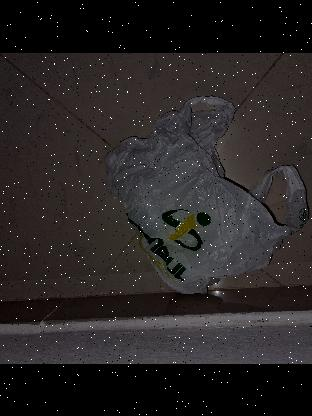Others: (108, 96, 306, 288)
